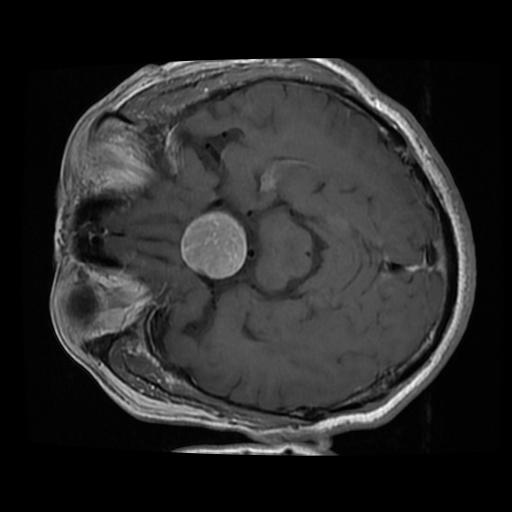pituitary tumour: (179, 212, 247, 278)
